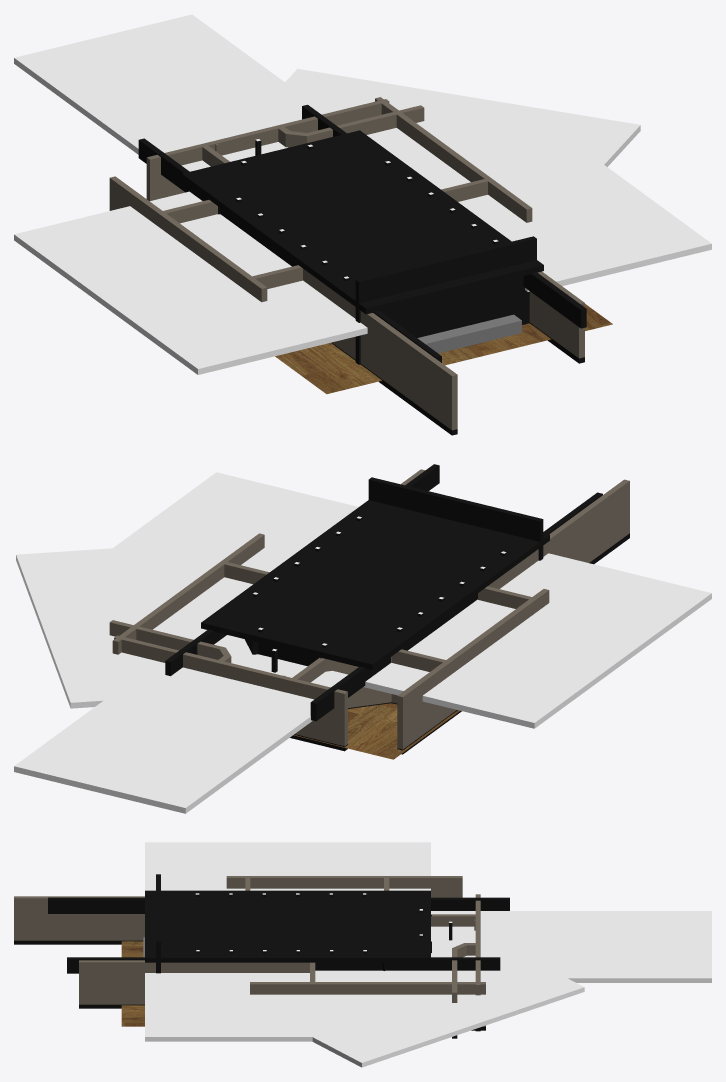
Rendered from EntireTrinityModel.obj.
3 views of the same model, one above another, from view 1: azimuth 30°, elevation 25°; view 2: azimuth 150°, elevation 25°; view 3: azimuth 270°, elevation 25° (orthographic). The views are drawn at different scales.
Visible parts, largest first — view 1: MainCeiling, Ceiling1, Ceiling2, Ceiling4, Ceiling3, BackWall, Wall2, Floor, RoofEdge, Wall13, Wall4, Wall5 (+6 smaller); view 2: MainCeiling, Ceiling1, Ceiling4, Ceiling2, Ceiling3, Wall13, Wall2, Wall4, RoofEdge, BackWall, Floor, Wall5 (+5 smaller); view 3: MainCeiling, Ceiling2, Ceiling4, Ceiling1, Ceiling3, RoofEdge, Wall1, Wall2, Wall4, Wall5, Floor, Wall13 (+2 smaller).
Part boxes in pixels (x1,y1,x2,y2): MainCeiling: (182, 130, 543, 314); Ceiling1: (14, 191, 367, 374); Ceiling2: (380, 109, 711, 286); Ceiling4: (14, 14, 326, 171); Ceiling3: (237, 68, 640, 205); BackWall: (355, 236, 536, 364); Wall2: (303, 268, 457, 435); Floor: (275, 304, 612, 394); RoofEdge: (138, 104, 586, 362); Wall13: (146, 99, 389, 201); Wall4: (109, 176, 267, 302); Wall5: (375, 97, 532, 222); MainCeiling: (201, 500, 549, 670); Ceiling1: (364, 553, 711, 728); Ceiling4: (14, 642, 347, 813); Ceiling2: (39, 472, 358, 639); Ceiling3: (16, 548, 266, 708); Wall13: (114, 635, 347, 751); Wall2: (488, 479, 629, 588); Wall4: (397, 589, 549, 754); RoofEdge: (165, 464, 602, 721); BackWall: (368, 477, 543, 560); Floor: (293, 703, 459, 759); Wall5: (112, 533, 264, 654); MainCeiling: (145, 890, 430, 962); Ceiling2: (145, 970, 430, 1041); Ceiling4: (426, 911, 711, 982); Ceiling1: (145, 842, 430, 890); Ceiling3: (276, 934, 584, 1067); RoofEdge: (48, 897, 509, 973); Wall1: (79, 960, 309, 1008); Wall2: (14, 896, 144, 944); Wall4: (226, 876, 462, 897); Wall5: (250, 982, 485, 1030); Floor: (121, 941, 144, 1026); Wall13: (475, 894, 480, 1031).
Bounding box in the file's own units: 102 × 15 × 136.
